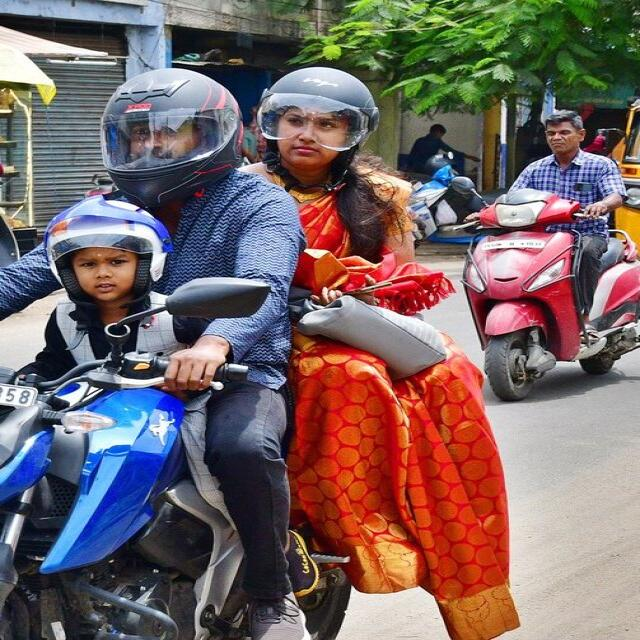helmet: (98, 67, 245, 208), (44, 194, 173, 301), (257, 64, 380, 152)
